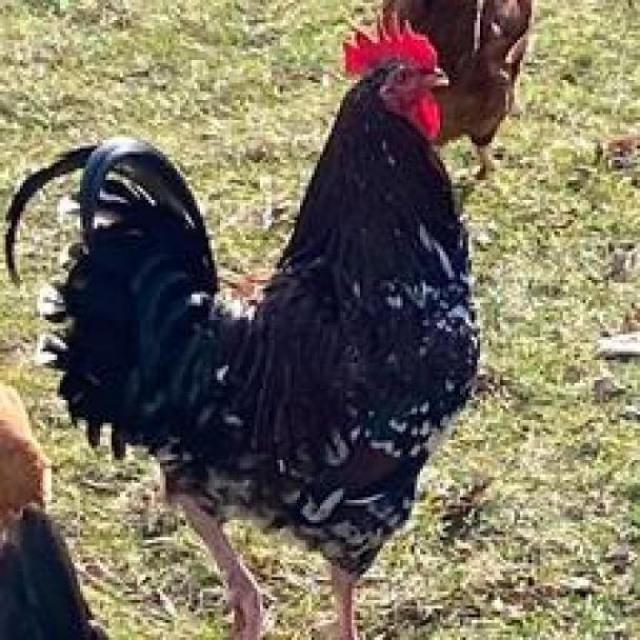Chicken: (0, 23, 583, 561)
